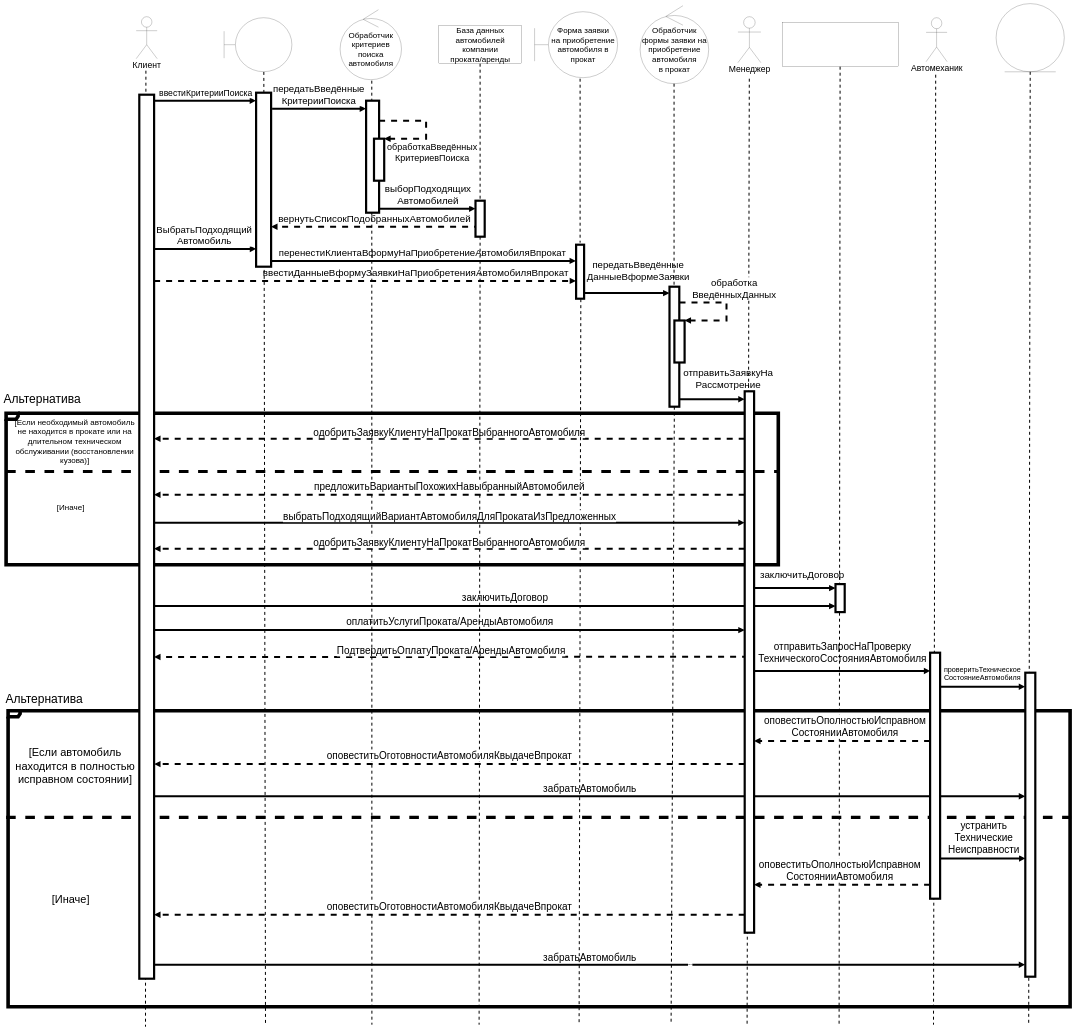
This 1076x1031 diagram has some shape labels left out. Here are the shapes that lost their labels. From the top down, the centre of each, then its label:
At (258,45): "Страница (экран) поиска автомобиля для проката".
At (840,44): "Договор проката/аренды автомобиля".
At (1030,37): "Автомобиль".
